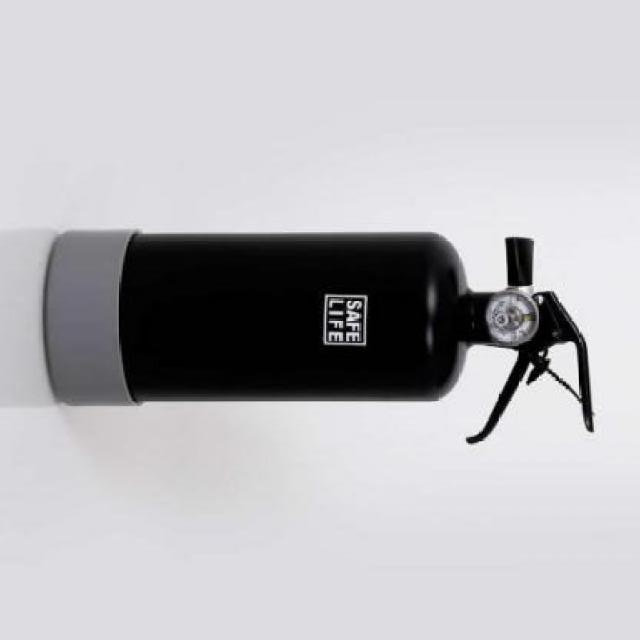fire extinguisher: (42, 228, 595, 443)
